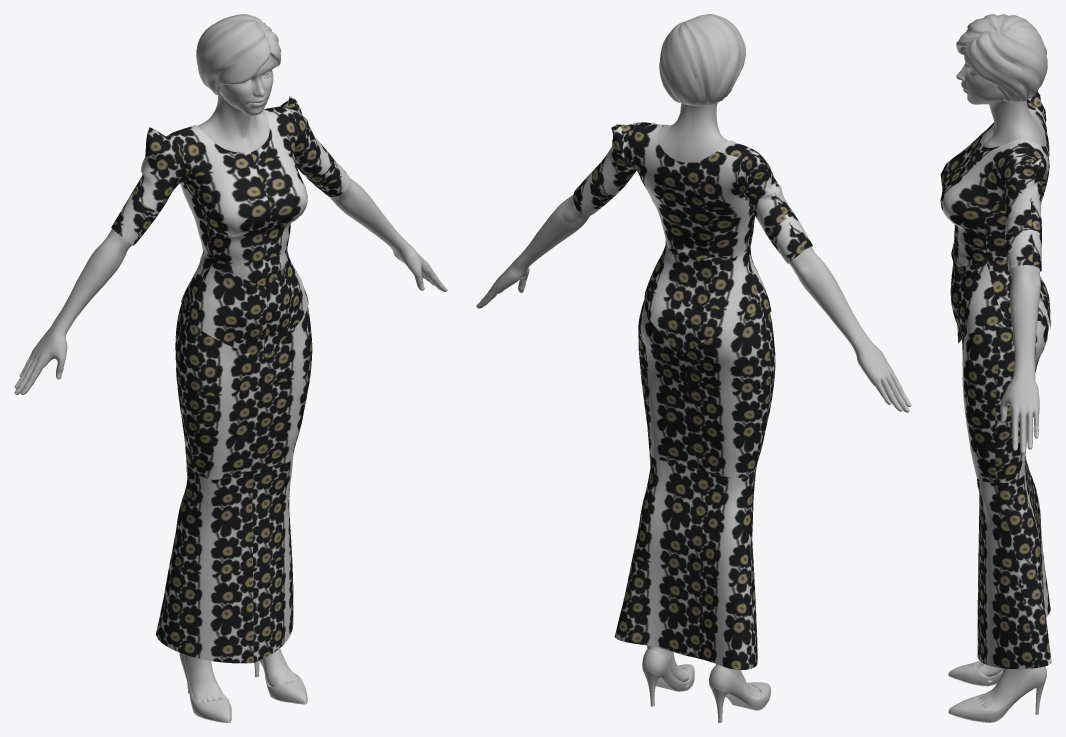
File: Jessia.fbx_2.fbx
3 renders of one model, left to right at view 1: azimuth 30°, elevation 25°; view 2: azimuth 150°, elevation 25°; view 3: azimuth 270°, elevation 25°, orthographic.
Visible parts, largest first — view 1: Jessia, bodyShape_skin_Shape, hair_Shape, shoes_r_Shape, shoes_l_Shape; view 2: Jessia, bodyShape_skin_Shape, hair_Shape, shoes_r_Shape, shoes_l_Shape; view 3: Jessia, bodyShape_skin_Shape, hair_Shape, shoes_l_Shape, shoes_r_Shape.
Part boxes in pixels (left/top/right/bottom): Jessia: left=111, top=96, right=349, bottom=663; bodyShape_skin_Shape: left=14, top=55, right=447, bottom=702; hair_Shape: left=196, top=14, right=280, bottom=98; shoes_r_Shape: left=179, top=652, right=231, bottom=722; shoes_l_Shape: left=254, top=659, right=307, bottom=704; Jessia: left=573, top=122, right=812, bottom=669; bodyShape_skin_Shape: left=476, top=89, right=911, bottom=696; hair_Shape: left=659, top=14, right=745, bottom=105; shoes_r_Shape: left=709, top=666, right=770, bottom=722; shoes_l_Shape: left=642, top=649, right=694, bottom=706; Jessia: left=940, top=91, right=1051, bottom=668; bodyShape_skin_Shape: left=956, top=55, right=1046, bottom=708; hair_Shape: left=956, top=14, right=1047, bottom=101; shoes_l_Shape: left=948, top=666, right=1046, bottom=722; shoes_r_Shape: left=948, top=660, right=1003, bottom=686.
Size of the model in its own units: 49.18 by 74.04 by 10.95.
